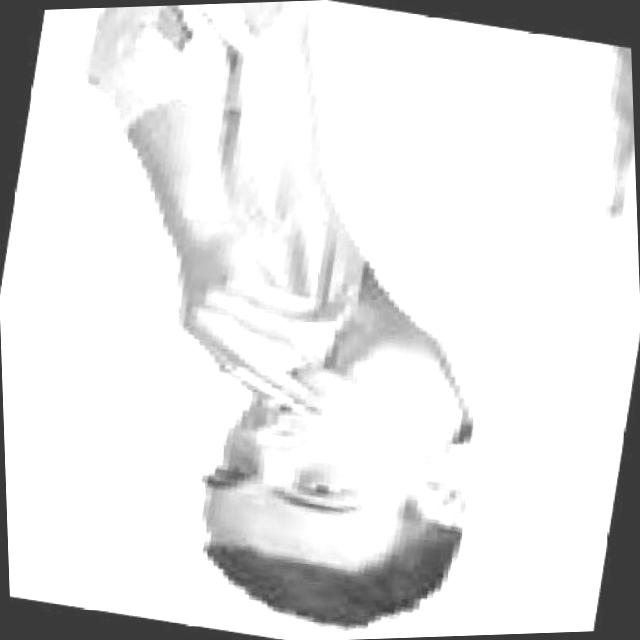cigarette: (218, 351, 312, 411)
